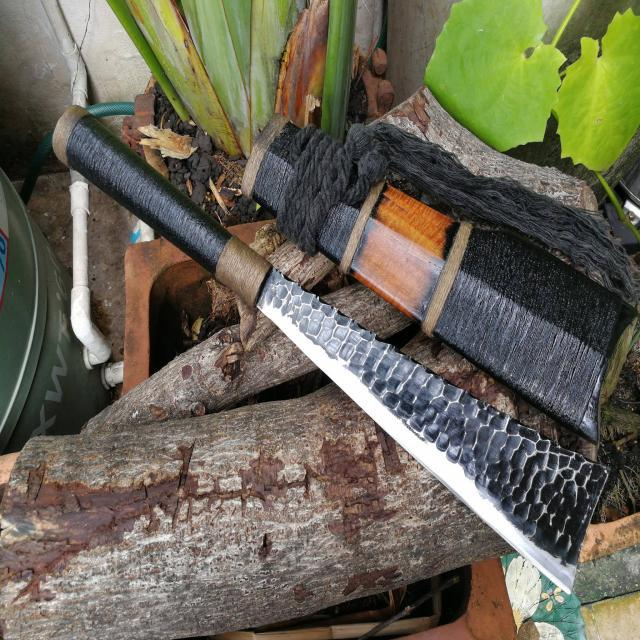eto: (36, 85, 626, 608)
